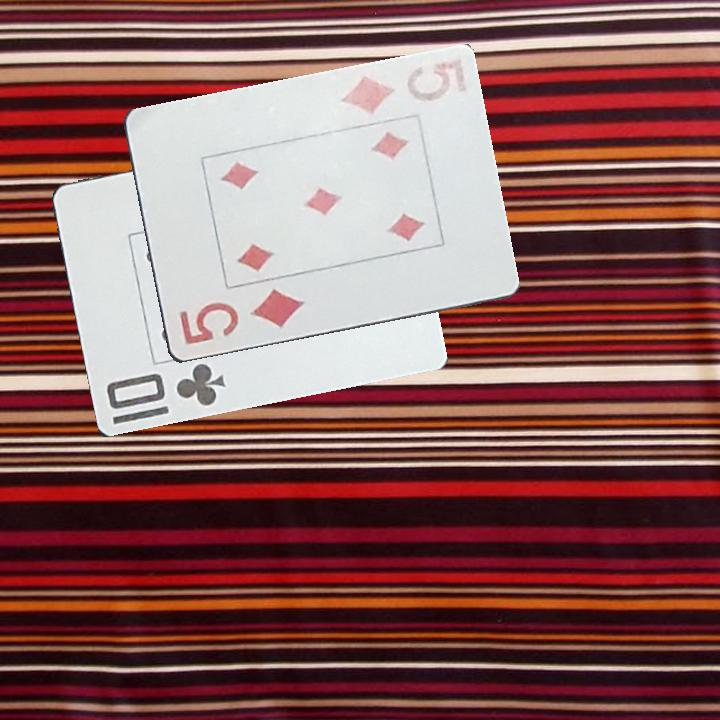5d: (175, 284, 307, 348), (337, 63, 453, 118)
Tc: (102, 359, 229, 413)
